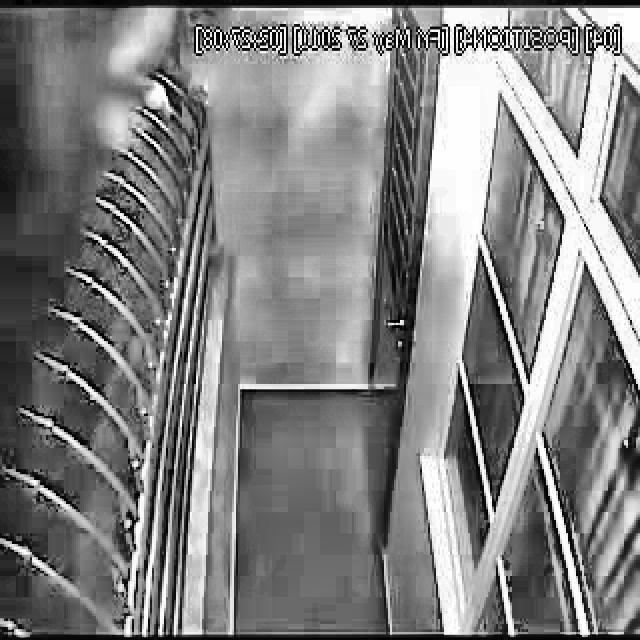burglary: (85, 8, 233, 215)
